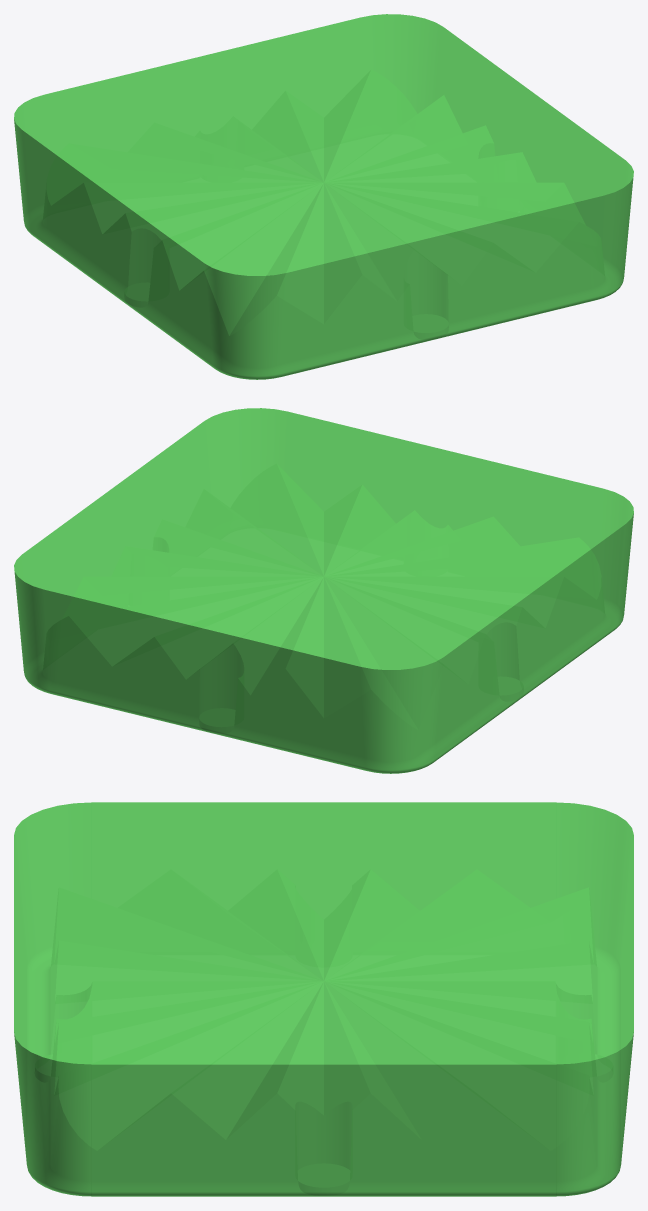
The model's file is Insert 1.0' Square, Starbust (PL-1SSG).fbx.
3 renders of one model, top to bottom at view 1: azimuth 30°, elevation 25°; view 2: azimuth 150°, elevation 25°; view 3: azimuth 270°, elevation 25°, orthographic. The views are drawn at different scales.
Parts seen in each view (by area): view 1: Insert 1.0' Square, Starbust (PL-1SSG); view 2: Insert 1.0' Square, Starbust (PL-1SSG); view 3: Insert 1.0' Square, Starbust (PL-1SSG).
Part boxes in pixels (bbox=[...]): Insert 1.0' Square, Starbust (PL-1SSG): bbox=[14, 14, 633, 379]; Insert 1.0' Square, Starbust (PL-1SSG): bbox=[14, 408, 633, 773]; Insert 1.0' Square, Starbust (PL-1SSG): bbox=[14, 802, 633, 1196].
Size of the model in its own units: 2.54 by 0.635 by 2.54.
